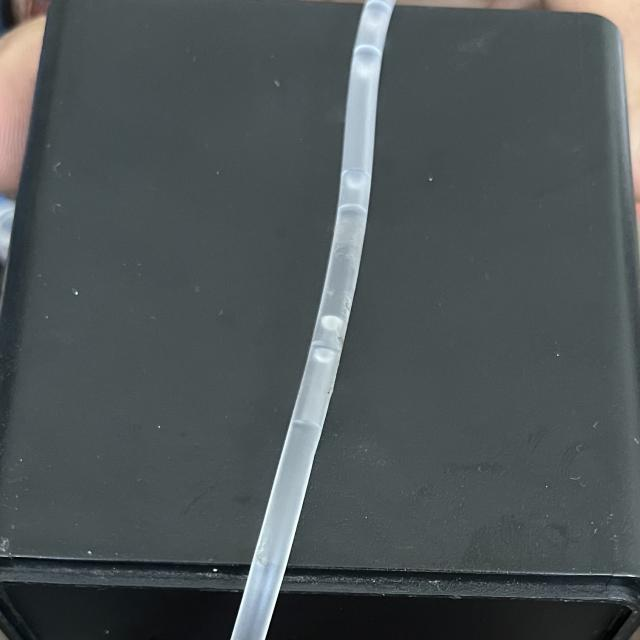bubble: (340, 42, 396, 160), (288, 344, 336, 432), (338, 165, 372, 215), (310, 312, 344, 329)
